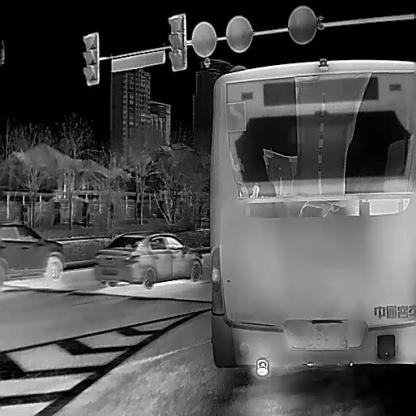bus: (209, 56, 415, 379)
car: (94, 228, 204, 288), (0, 219, 66, 280)
